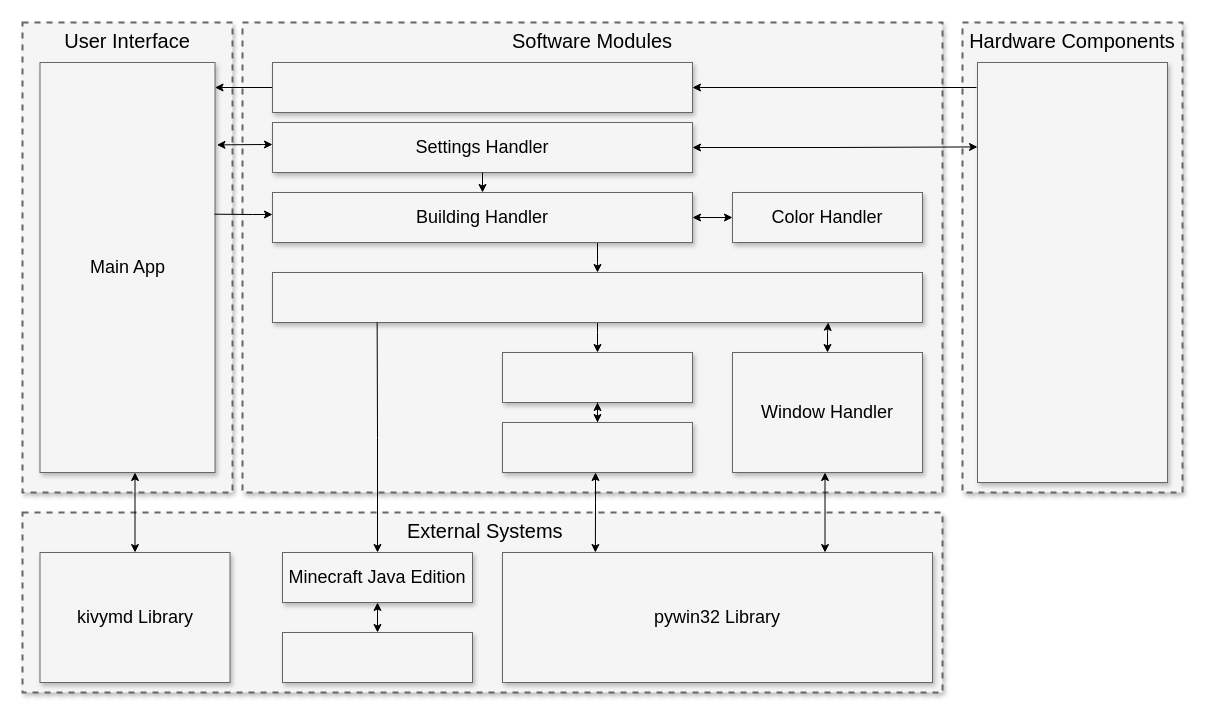
This 1206x717 diagram has some shape labels left out. Each missing label, with the centre of its shape:
C-Structure Python Redefinitions: the point at 598,449
Disk: the point at 1073,274
Game Automation Handler: the point at 598,299
Keyboard Handler: the point at 598,379
Place Parser: the point at 483,89
World Edit: the point at 378,659
